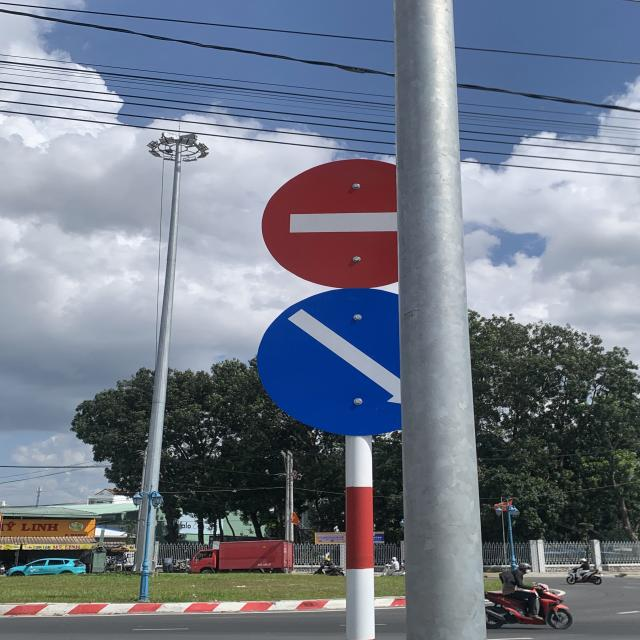Cam_Di_Nguoc_Chieu: (262, 157, 400, 289)
Chi_Huong_Di_Phai: (258, 290, 402, 436)
